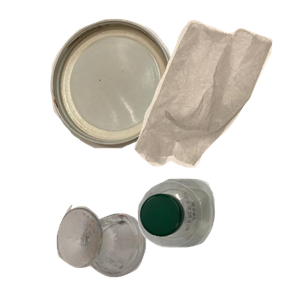glass: (54, 202, 193, 300)
metal: (47, 16, 214, 157)
plastic: (135, 176, 300, 300)
trash: (132, 17, 300, 177)
